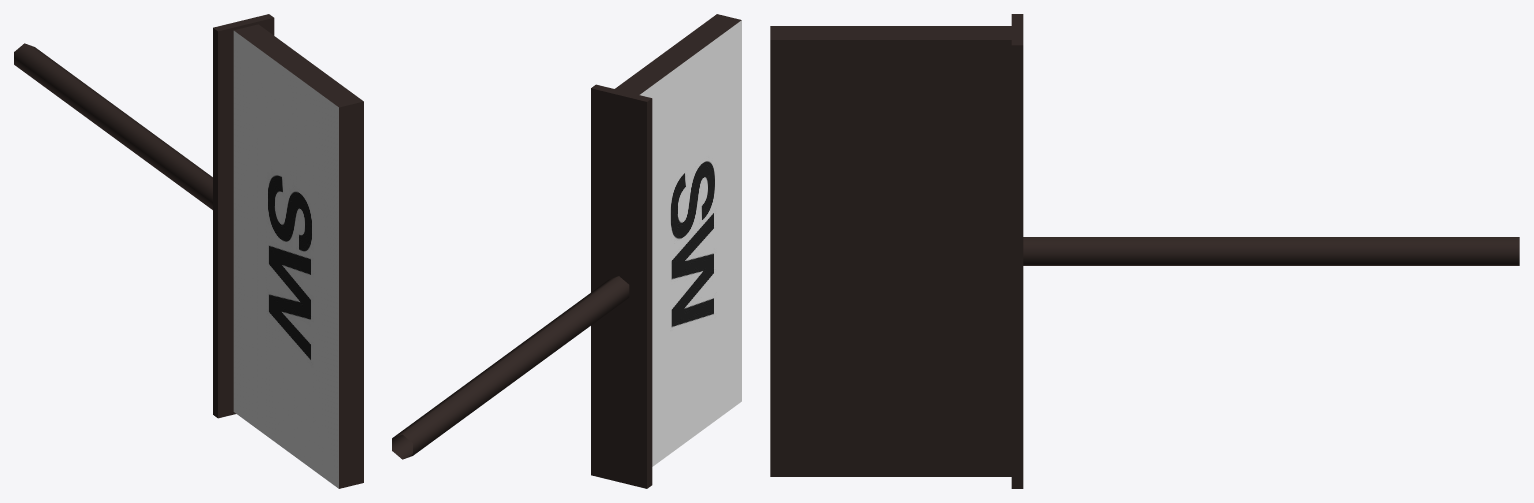
3 renders of one model, left to right at view 1: azimuth 30°, elevation 25°; view 2: azimuth 150°, elevation 25°; view 3: azimuth 270°, elevation 25°, orthographic. The views are drawn at different scales.
Parts seen in each view (by area): view 1: sw; view 2: sw; view 3: sw.
Boxes of the visible parts, left/top/right/bottom form: sw: left=14, top=14, right=363, bottom=488; sw: left=392, top=14, right=741, bottom=488; sw: left=770, top=14, right=1519, bottom=488.
Size of the model in its own units: 1.4 by 9.22 by 14.12.
2 materials, 1 textured.
